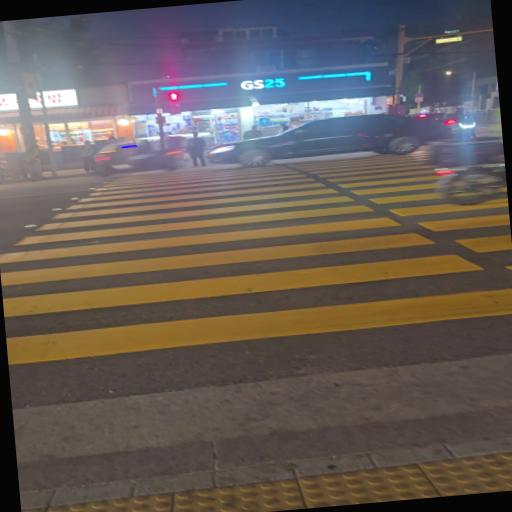yellow-crosswalk: (0, 132, 512, 379)
